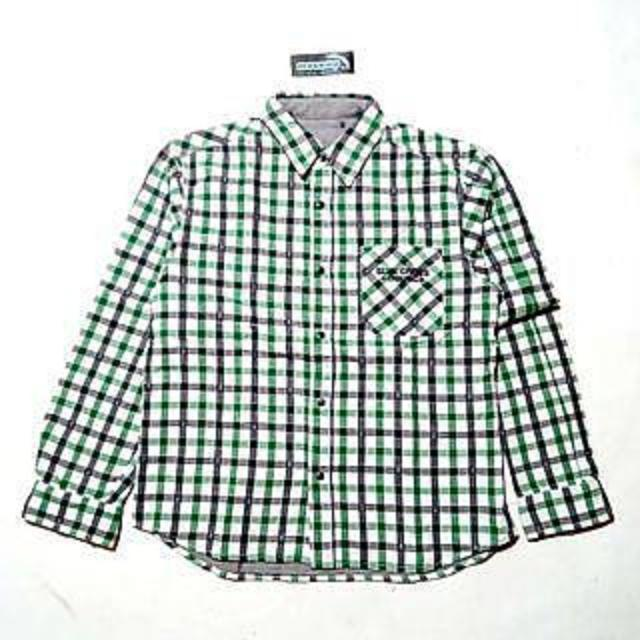SHIRT: (12, 81, 640, 598)
